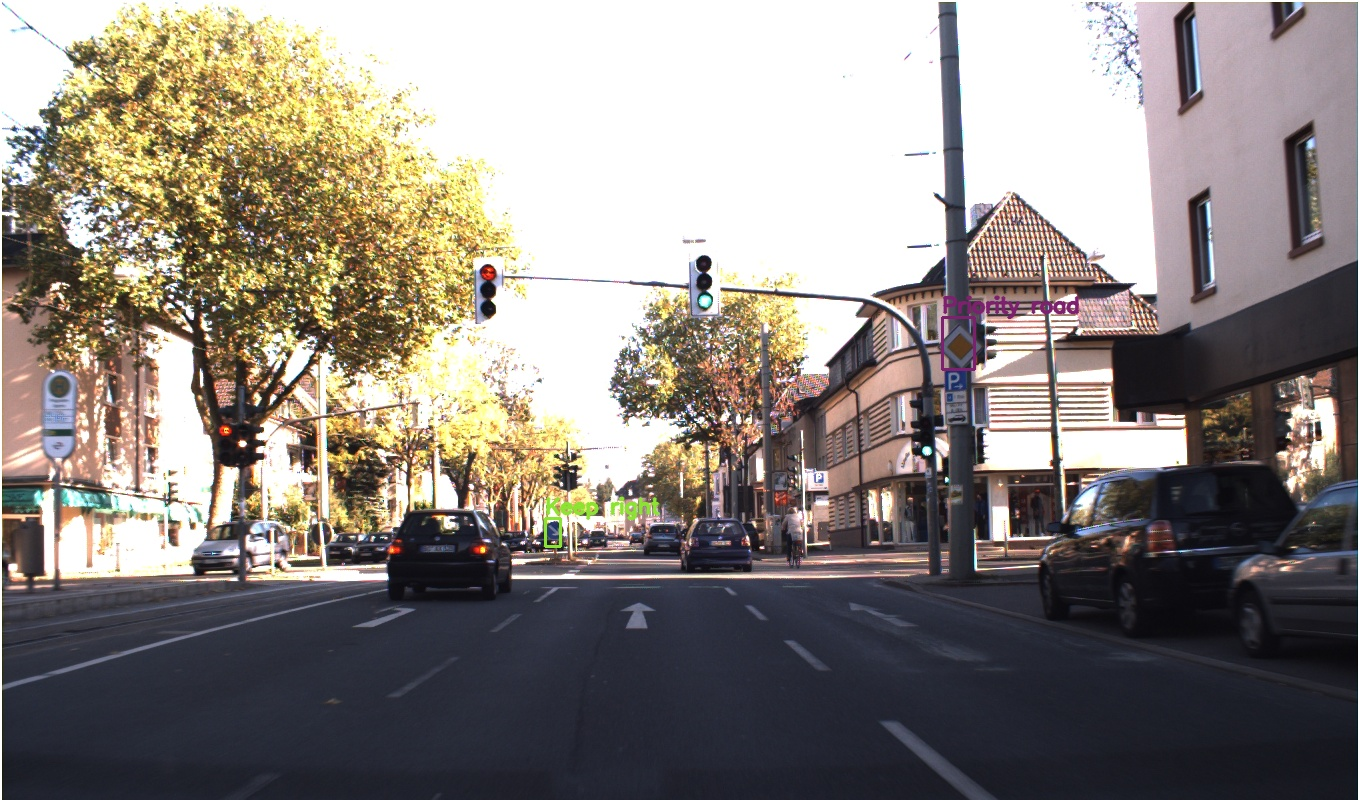Road work: (702, 413, 747, 455)
